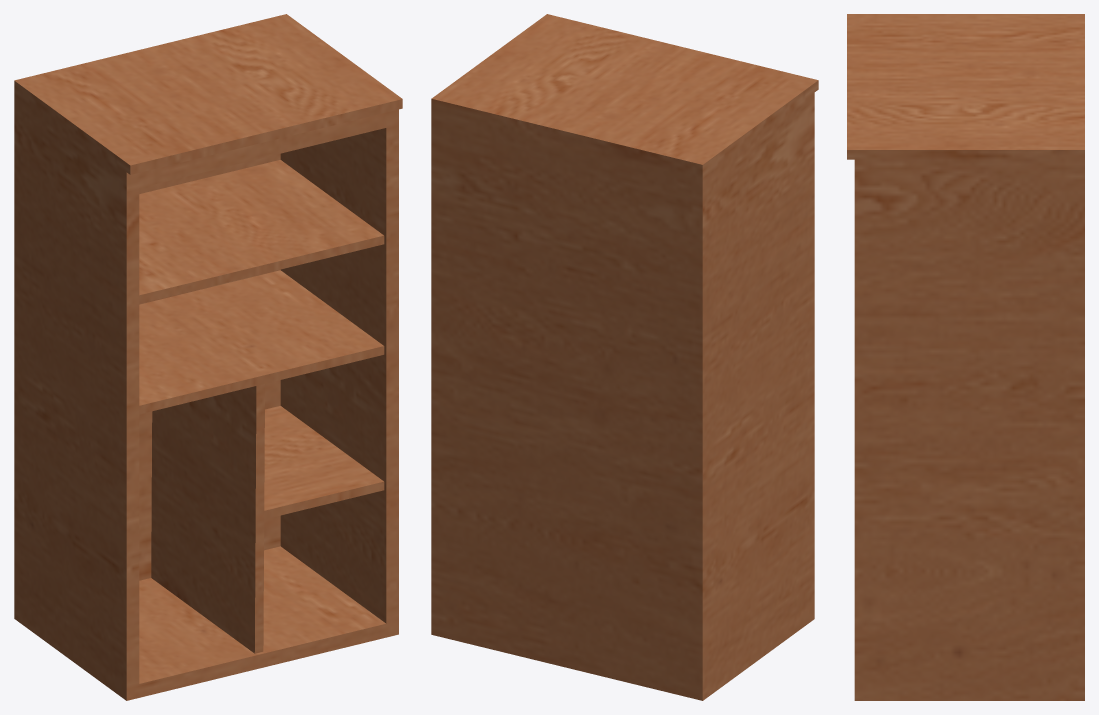
File: Closet37.fbx
3 renders of one model, left to right at view 1: azimuth 30°, elevation 25°; view 2: azimuth 150°, elevation 25°; view 3: azimuth 270°, elevation 25°, orthographic. The views are drawn at different scales.
Visible parts, largest first — view 1: Closet37; view 2: Closet37; view 3: Closet37.
Part boxes in pixels (box(x1,y1,x2,y2)): Closet37: box(14, 14, 402, 700); Closet37: box(431, 14, 818, 700); Closet37: box(847, 14, 1084, 700).
Bounding box in the file's own units: 62.2 × 117 × 45.95.
